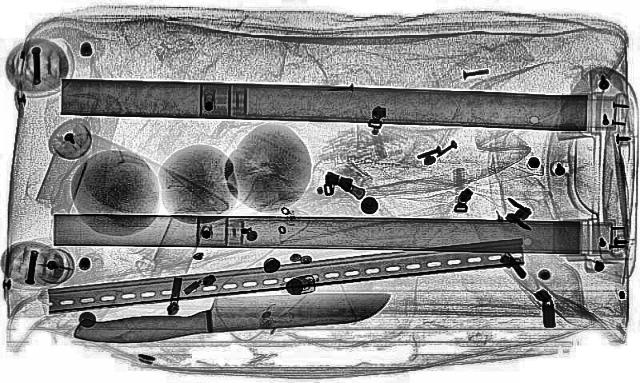Knife: (67, 280, 397, 348)
